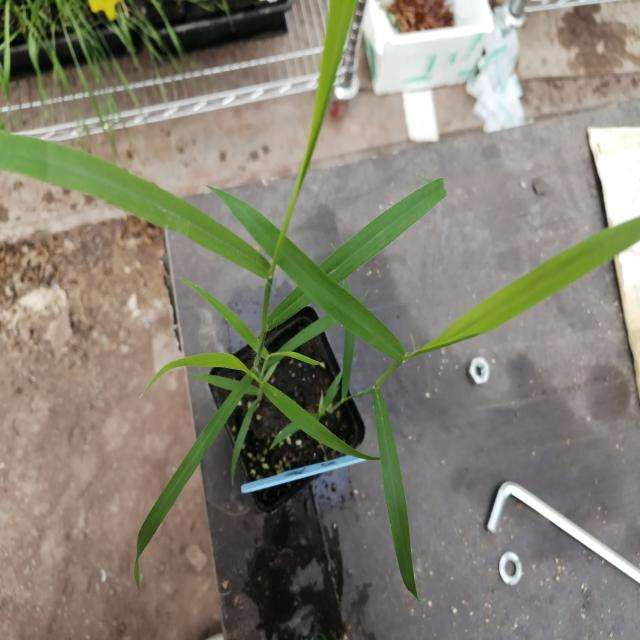crabgrass: (4, 116, 483, 528)
